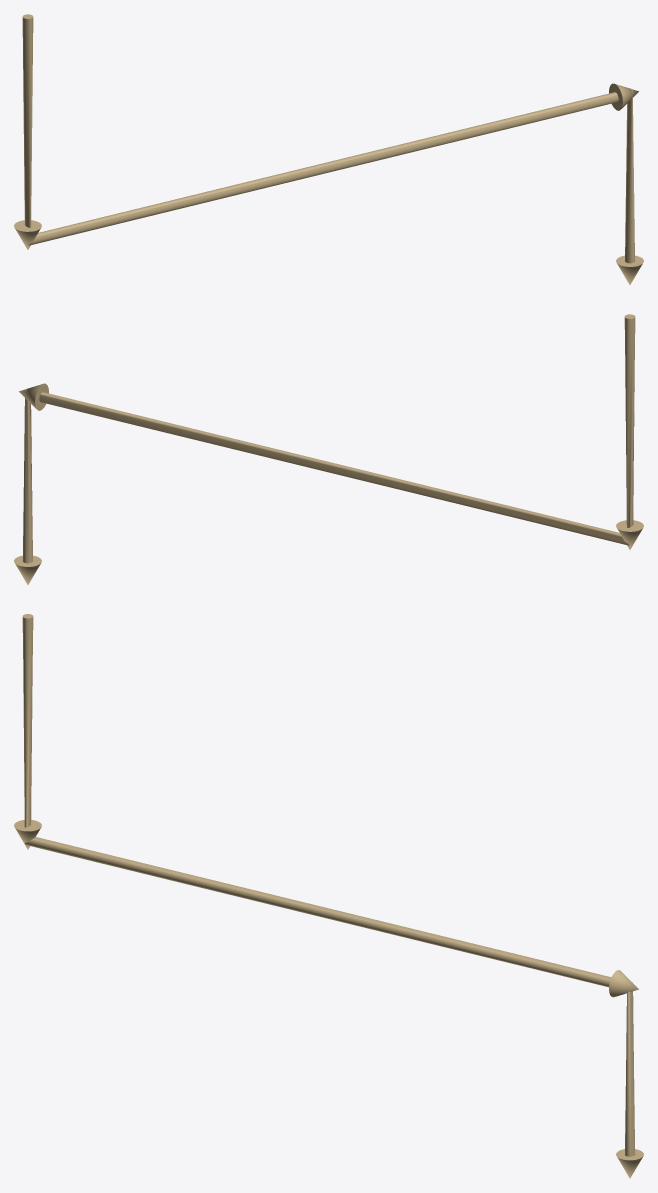
Rendered from drag_chain_conveyor_flow.glb.
The picture shows the model from 3 angles, top to bottom: view 1: azimuth 30°, elevation 25°; view 2: azimuth 150°, elevation 25°; view 3: azimuth 330°, elevation 25°; orthographic projection.
Parts seen in each view (by area): view 1: material; view 2: material; view 3: material.
Part boxes in pixels (<box>): material: <box>14,14,643,284</box>; material: <box>14,314,643,584</box>; material: <box>14,614,643,1178</box>.
Size of the model in its own units: 1.87 by 1.19 by 0.0728.
